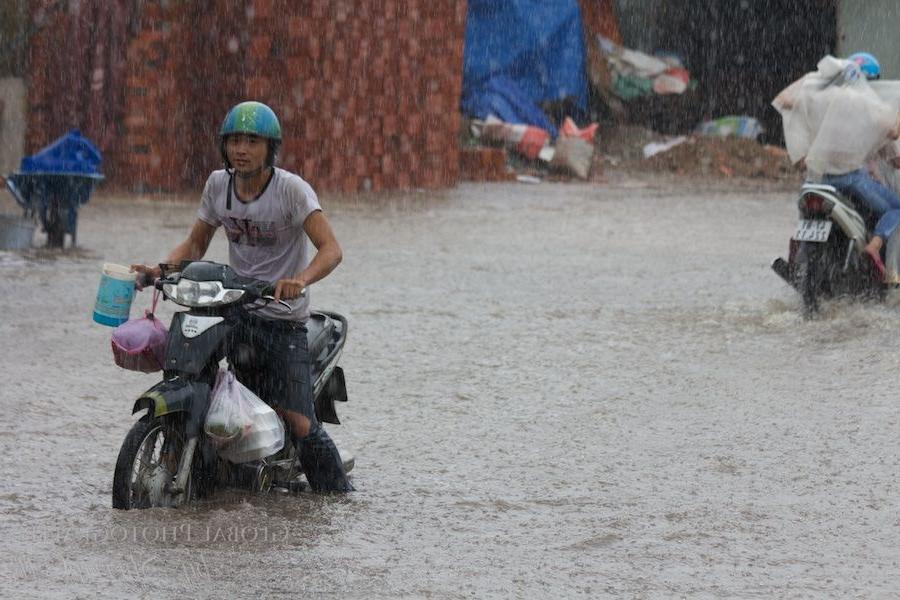ROAD_FLOODING: (17, 168, 898, 600)
